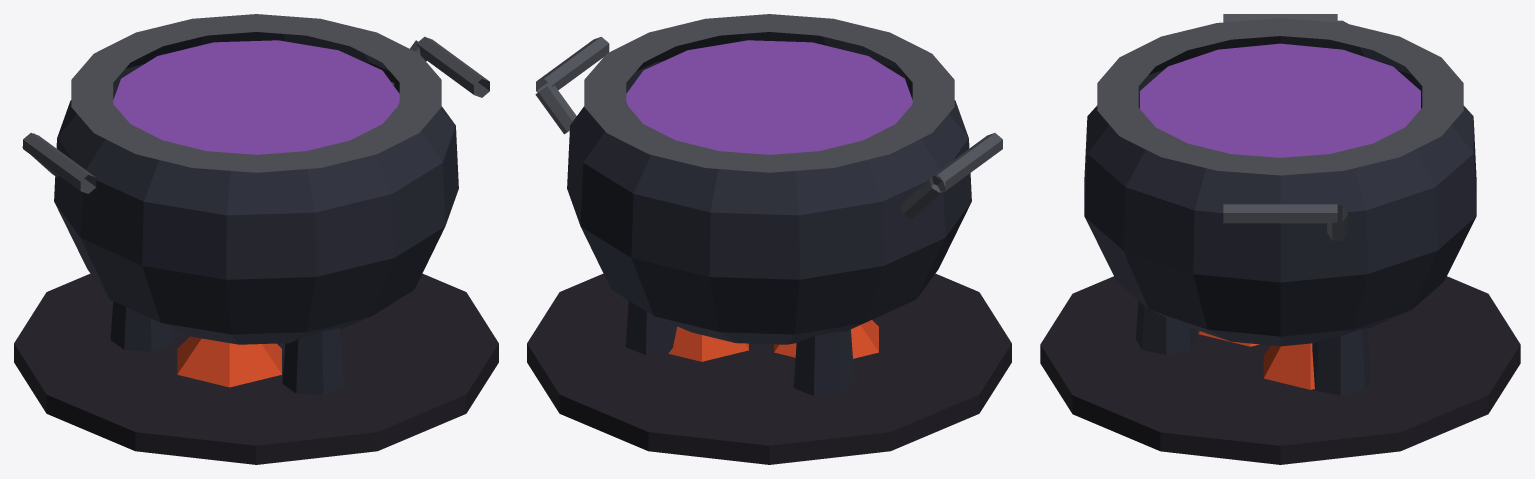
File: cauldron_big.obj
The picture shows the model from 3 angles, left to right: view 1: azimuth 30°, elevation 25°; view 2: azimuth 150°, elevation 25°; view 3: azimuth 270°, elevation 25°; orthographic projection.
Parts seen in each view (by area): view 1: cauldron_big; view 2: cauldron_big; view 3: cauldron_big.
Boxes of the visible parts, x1,y1,x2,y2 form: cauldron_big: (14, 14, 498, 464); cauldron_big: (527, 14, 1011, 464); cauldron_big: (1040, 14, 1520, 464).
Bounding box in the file's own units: 1.6 × 0.98 × 1.6.
